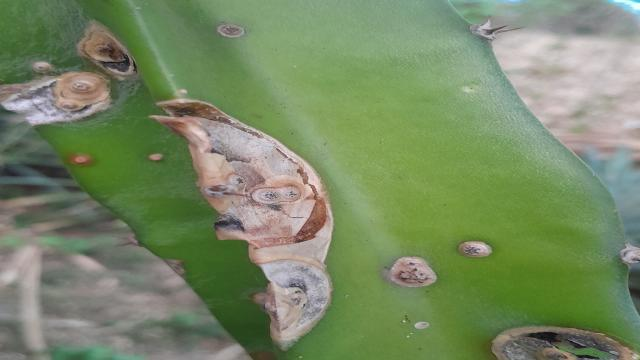stemcanker: (379, 251, 441, 294), (454, 236, 497, 262), (210, 18, 249, 40)
